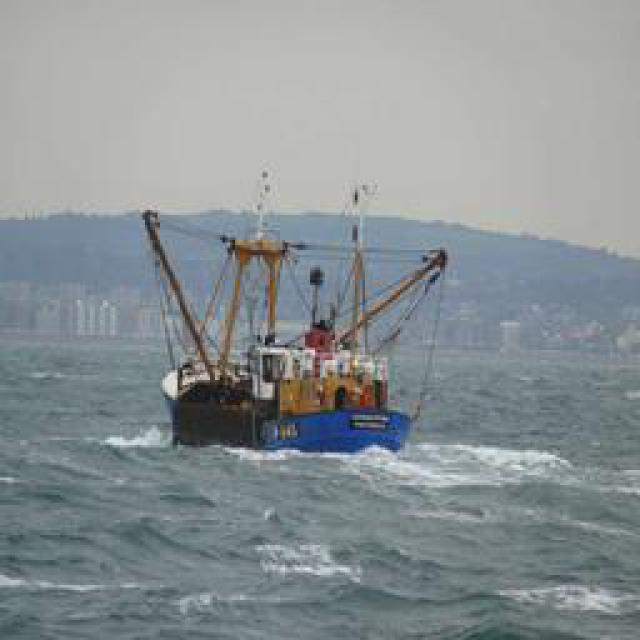Ship: (155, 207, 438, 457)
